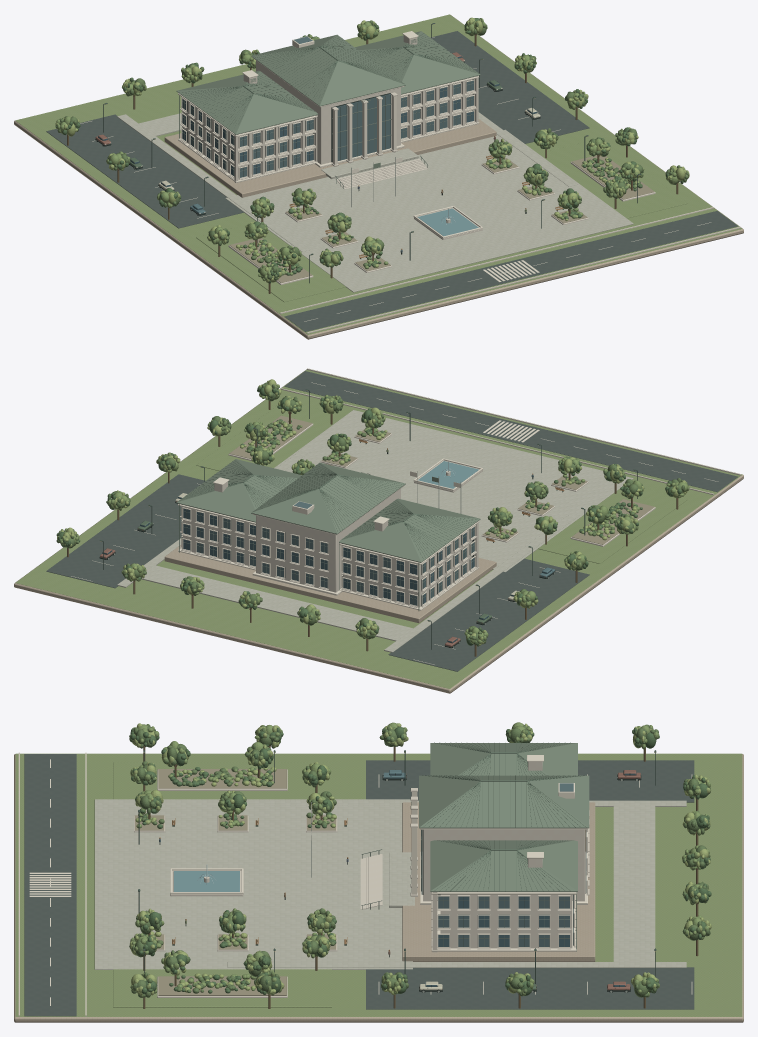
The model's file is city-hall.glb.
The picture shows the model from 3 angles, top to bottom: view 1: azimuth 30°, elevation 25°; view 2: azimuth 150°, elevation 25°; view 3: azimuth 270°, elevation 25°; orthographic projection. The views are drawn at different scales.
Parts seen in each view (by area): view 1: 材质批次_plaza_paving, 材质批次_grass, 材质批次_asphalt, 材质批次_sage_metal_roof, 材质批次_limestone, 材质批次_warm_cream_trim, 材质批次_stone_courses, 材质批次_cityhall_glass_lit, 材质批次_leaf_0, 材质批次_leaf_2, 材质批次_standing_seam, 材质批次_leaf_1 (+8 smaller); view 2: 材质批次_grass, 材质批次_asphalt, 材质批次_plaza_paving, 材质批次_sage_metal_roof, 材质批次_limestone, 材质批次_stone_courses, 材质批次_warm_cream_trim, 材质批次_leaf_1, 材质批次_leaf_2, 材质批次_standing_seam, 材质批次_leaf_0, 材质批次_leaf_3 (+7 smaller); view 3: 材质批次_plaza_paving, 材质批次_grass, 材质批次_asphalt, 材质批次_sage_metal_roof, 材质批次_limestone, 材质批次_stone_courses, 材质批次_leaf_1, 材质批次_warm_cream_trim, 材质批次_leaf_3, 材质批次_leaf_2, 材质批次_leaf_0, 材质批次_standing_seam (+8 smaller).
Boxes of the visible parts, x1,y1,x2,y2 form: 材质批次_plaza_paving: (117,112,633,292); 材质批次_grass: (15,14,742,334); 材质批次_asphalt: (46,31,737,331); 材质批次_sage_metal_roof: (176,31,480,168); 材质批次_limestone: (179,35,741,333); 材质批次_warm_cream_trim: (80,31,711,321); 材质批次_stone_courses: (14,15,743,339); 材质批次_cityhall_glass_lit: (182,36,473,177); 材质批次_leaf_0: (55,18,688,281); 材质批次_leaf_2: (55,17,689,282); 材质批次_standing_seam: (179,33,478,138); 材质批次_leaf_1: (57,18,688,282); 材质批次_grass: (15,369,742,688); 材质批次_asphalt: (46,371,737,671); 材质批次_plaza_paving: (117,410,633,652); 材质批次_sage_metal_roof: (176,459,480,562); 材质批次_limestone: (180,368,741,607); 材质批次_stone_courses: (14,369,743,693); 材质批次_warm_cream_trim: (71,382,718,664); 材质批次_leaf_1: (56,382,688,646); 材质批次_leaf_2: (57,379,687,645); 材质批次_standing_seam: (179,460,477,610); 材质批次_leaf_0: (60,384,689,644); 材质批次_leaf_3: (56,386,681,645); 材质批次_plaza_paving: (94,799,686,969); 材质批次_grass: (15,753,742,1016); 材质批次_asphalt: (24,754,694,1016); 材质批次_sage_metal_roof: (311,743,589,891); 材质批次_limestone: (18,752,589,1016); 材质批次_stone_courses: (14,754,743,1022); 材质批次_leaf_1: (129,724,710,997); 材质批次_warm_cream_trim: (29,755,692,1005); 材质批次_leaf_3: (130,725,711,997); 材质批次_leaf_2: (130,723,711,995); 材质批次_leaf_0: (130,722,710,997); 材质批次_standing_seam: (422,742,586,951).
Size of the model in its own units: 120 by 23.44 by 140.
35 materials, 5 textured.
